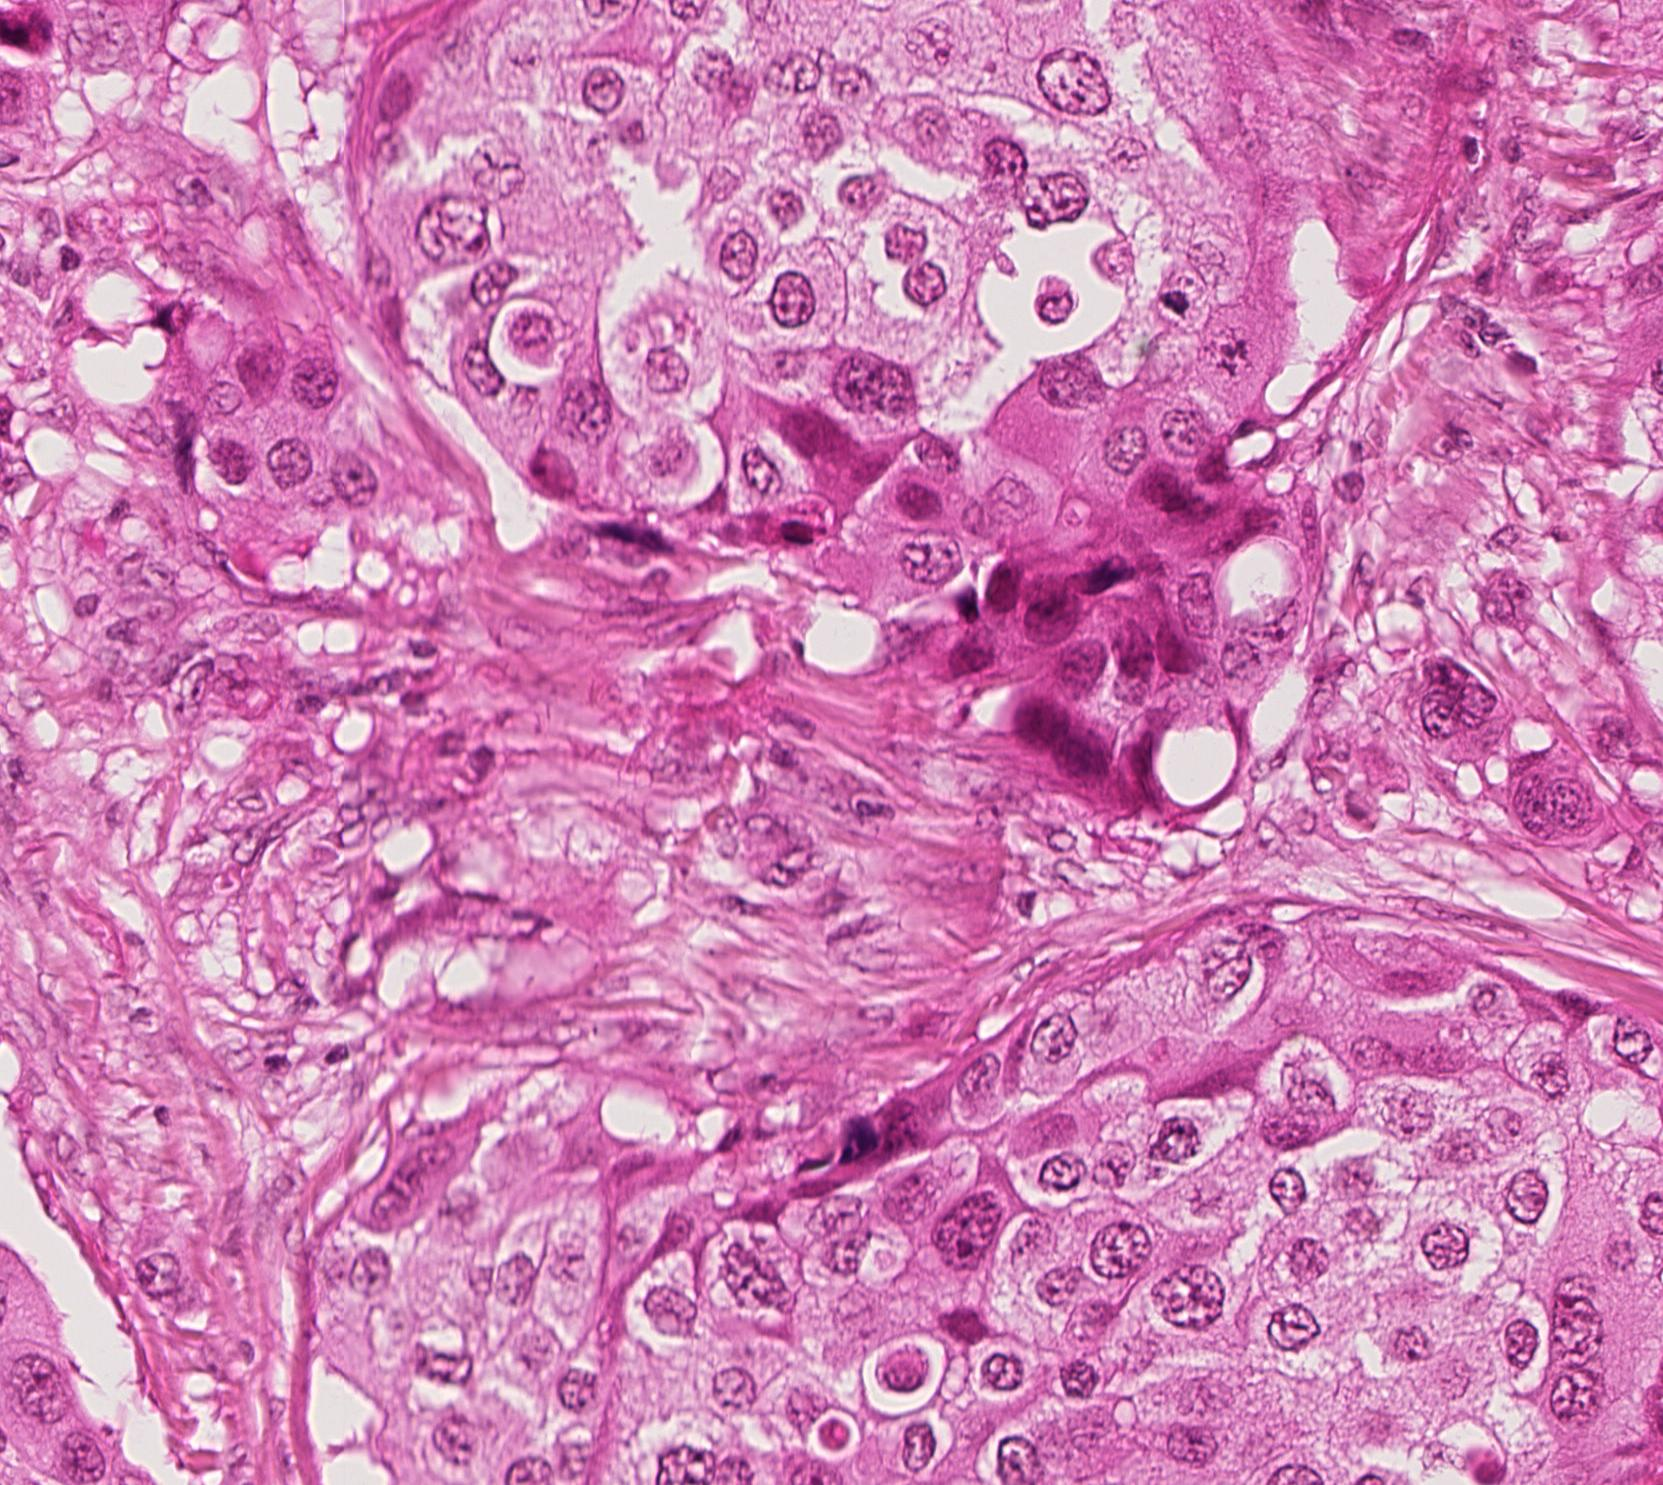mitosis: (1206, 333, 1264, 391)
